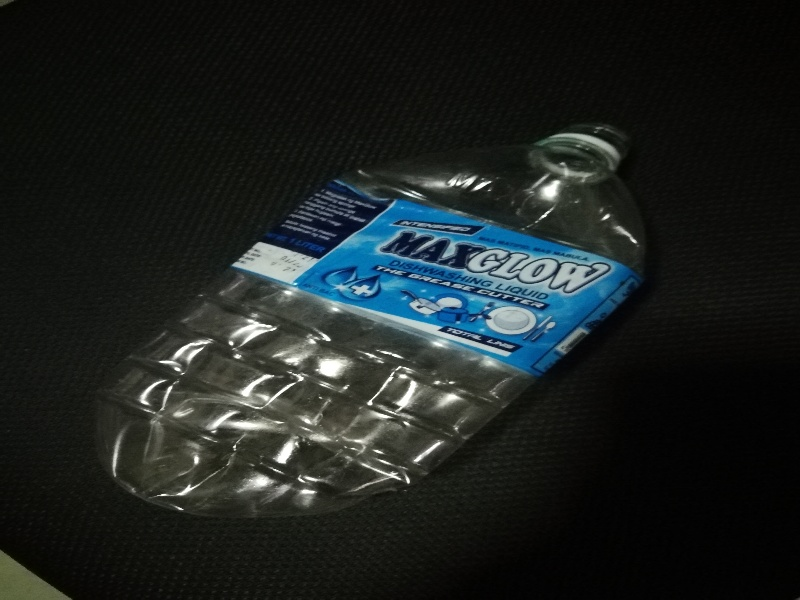PET #1: (84, 103, 657, 525)
